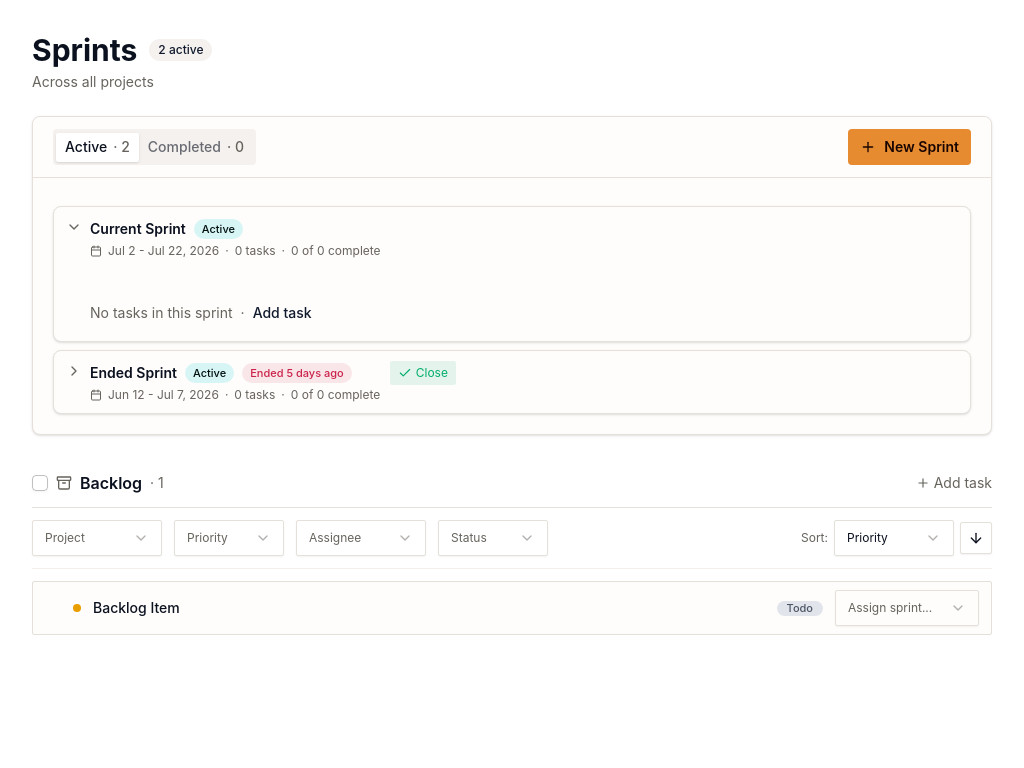
it: SprintsPage backlog assign dropdown › offers every active sprint, including ended-but-not-closed ones
// The per-backlog-item "Assign sprint..." trigger.
Click the dropdown "Assign sprint...": (907, 608) [835,590,979,626]
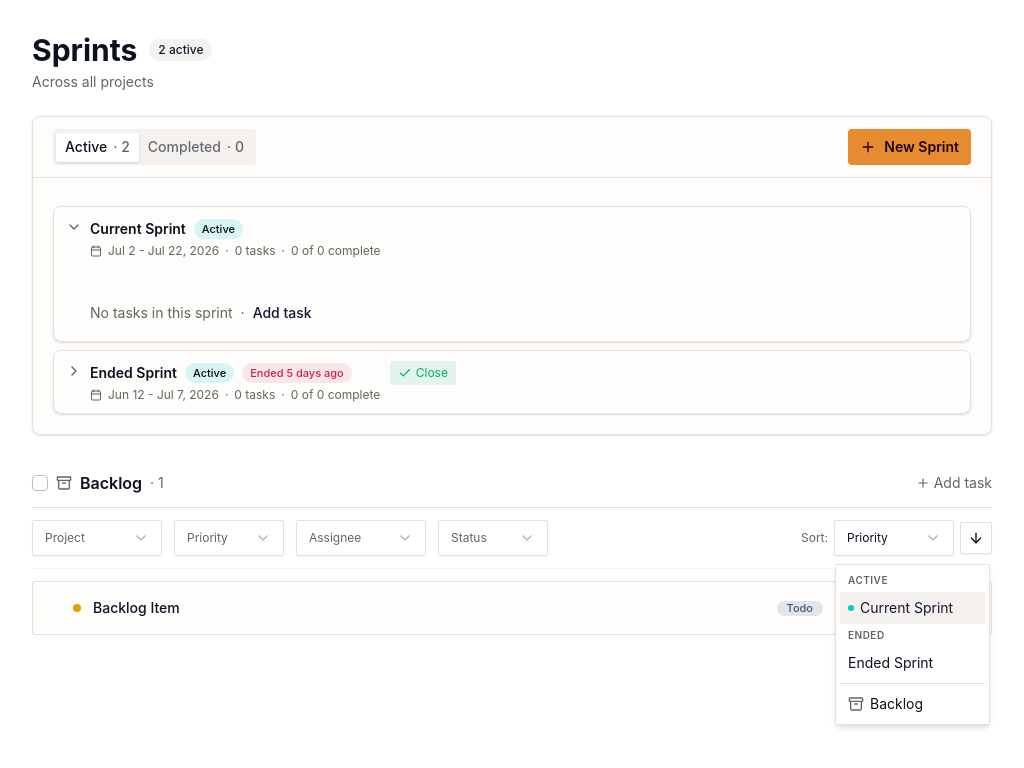
Expected: the text "Current Sprint" is shown, [848,598,953,618]
Expected: the 2nd text "Ended Sprint" is shown, [848,653,933,673]
